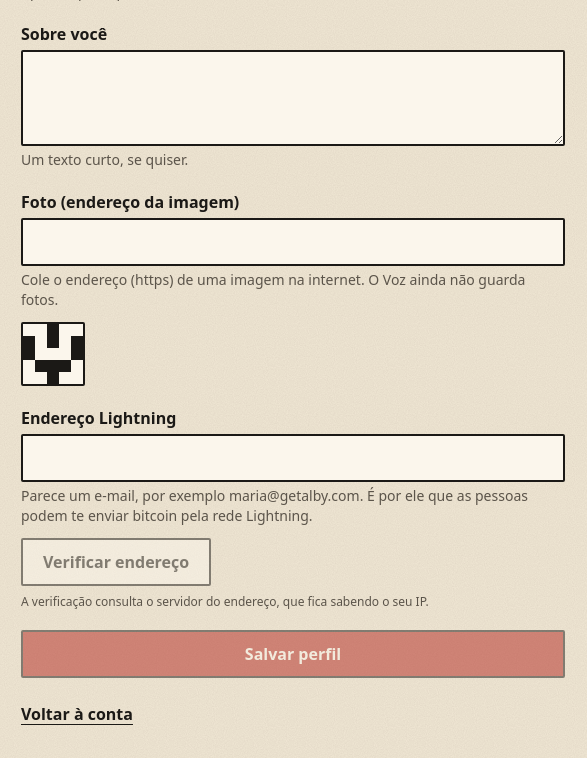
it: editar perfil › validacao › RN-WEB-PERFIL-012: endereco lightning invalido mostra o erro e impede salvar
(page scrolled)
Type "maria@localhost" into the field labelled "Endereço Lightning" at (293, 458), box [21,434,565,482]
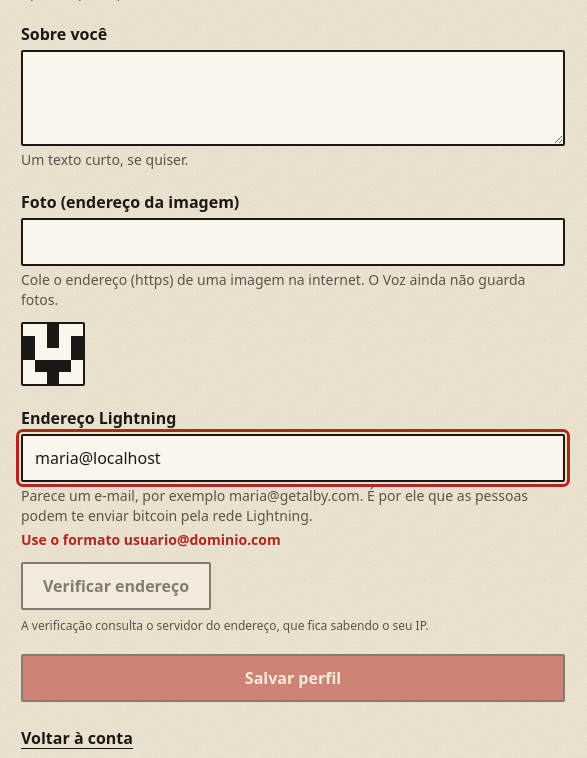
Check: the button "Salvar perfil" is disabled, box [21,654,565,702]
Check: the text "Use o formato usuario@dominio.com" is shown, box [21,530,281,549]
